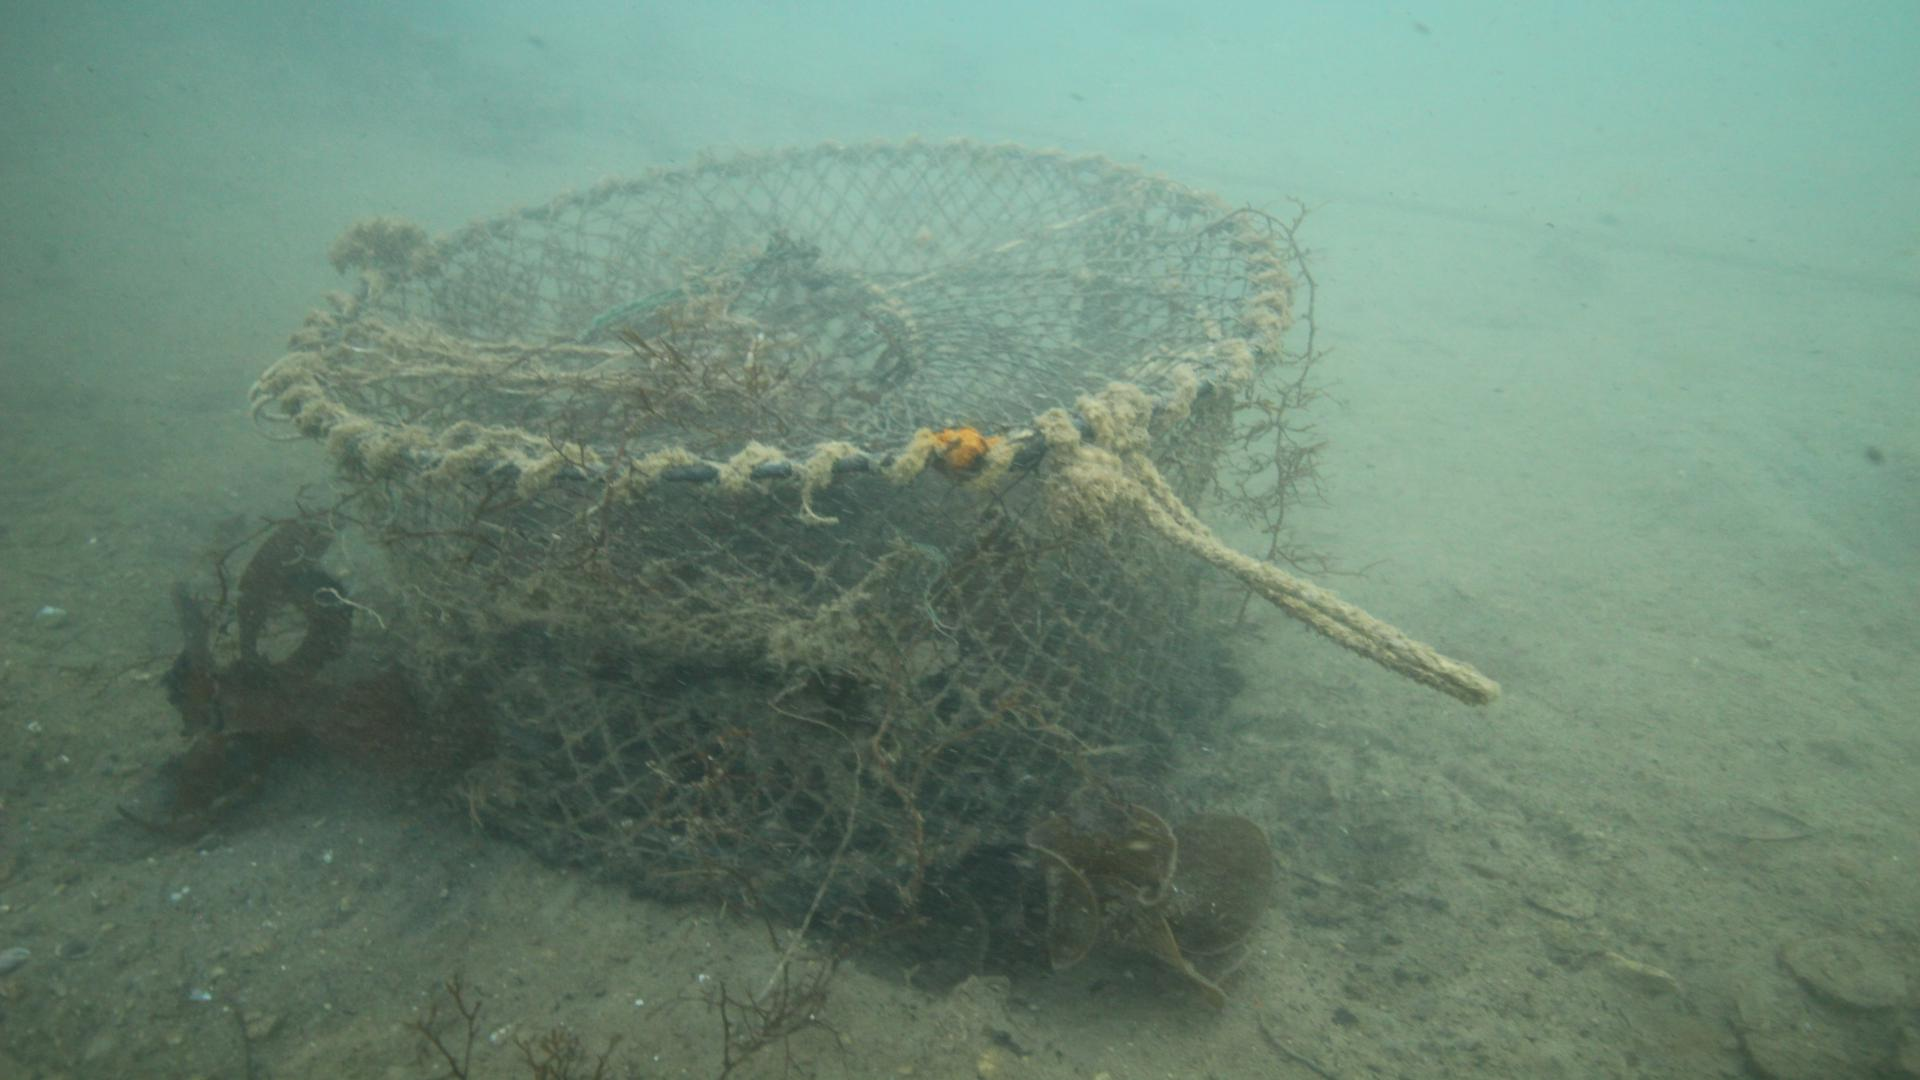circular fish trap: (245, 135, 1294, 899)
rope: (1116, 448, 1503, 709)
